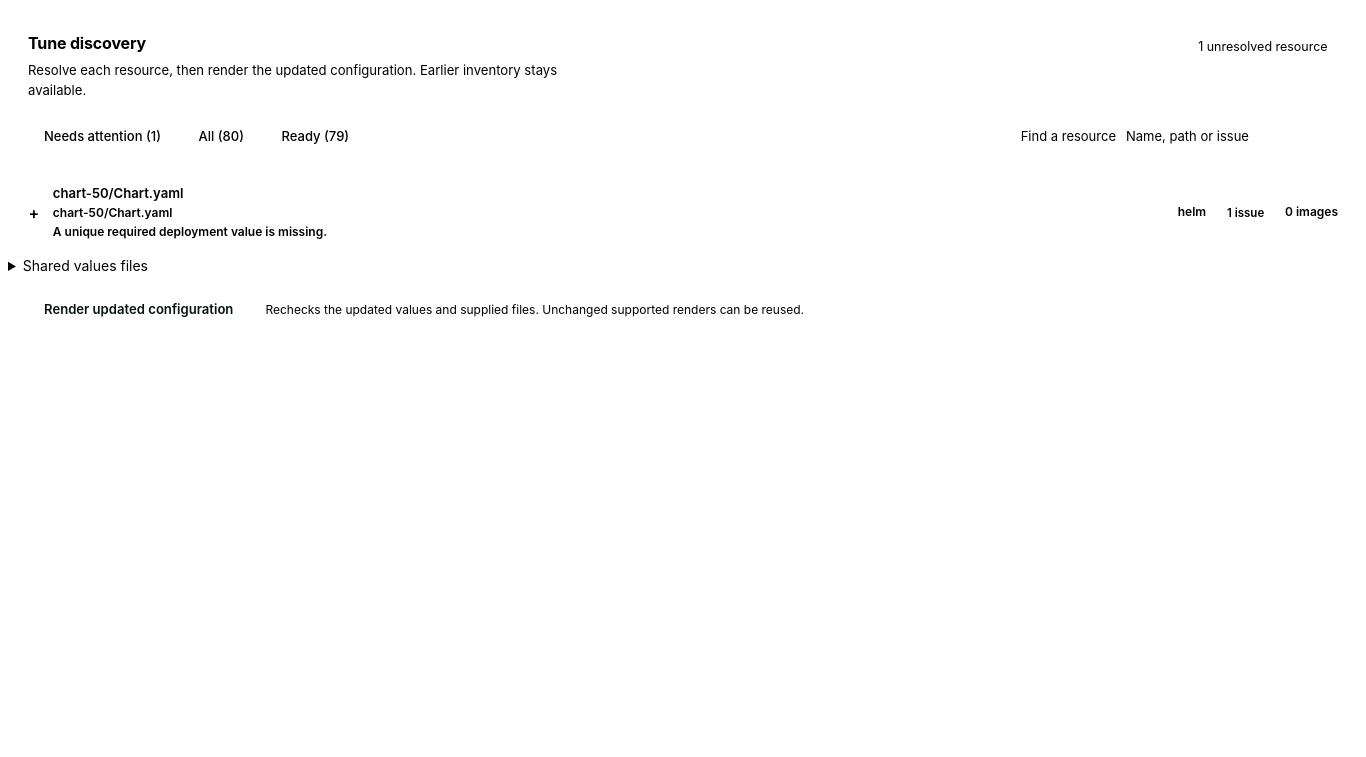
bounds long inventories, filters by issue text, and leaves ready resources collapsed
Later steps or results of the test are not shown.
Click the button "All (80)" at (221, 137), box [183,119,260,155]
(page scrolled)
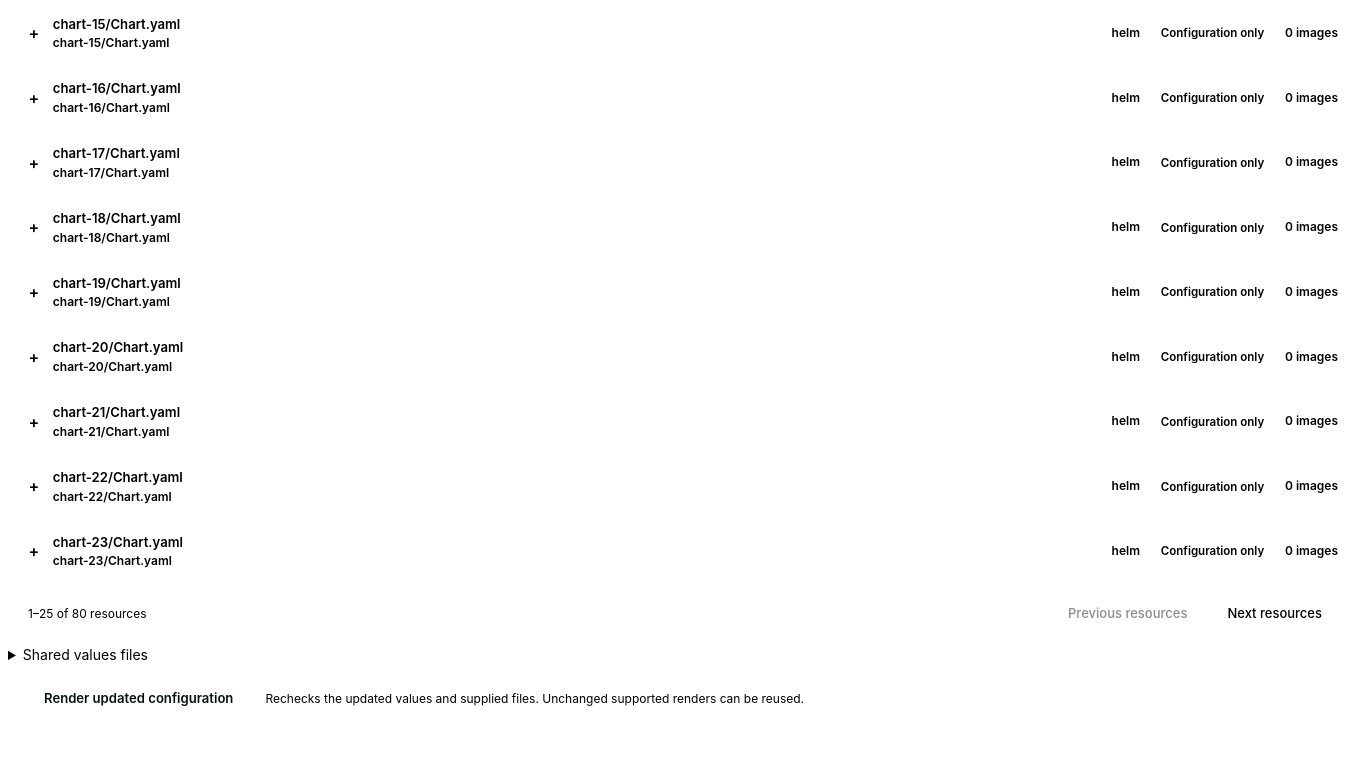
Now the text "1–25 of 80 resources" is shown, box [28,605,146,623]
